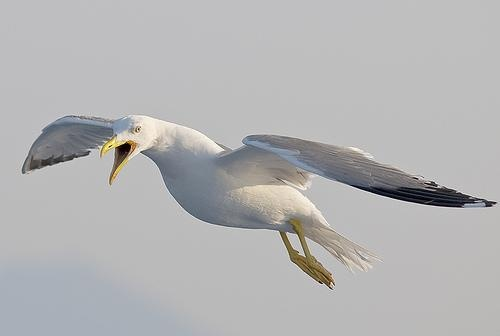bird: (21, 111, 500, 289)
